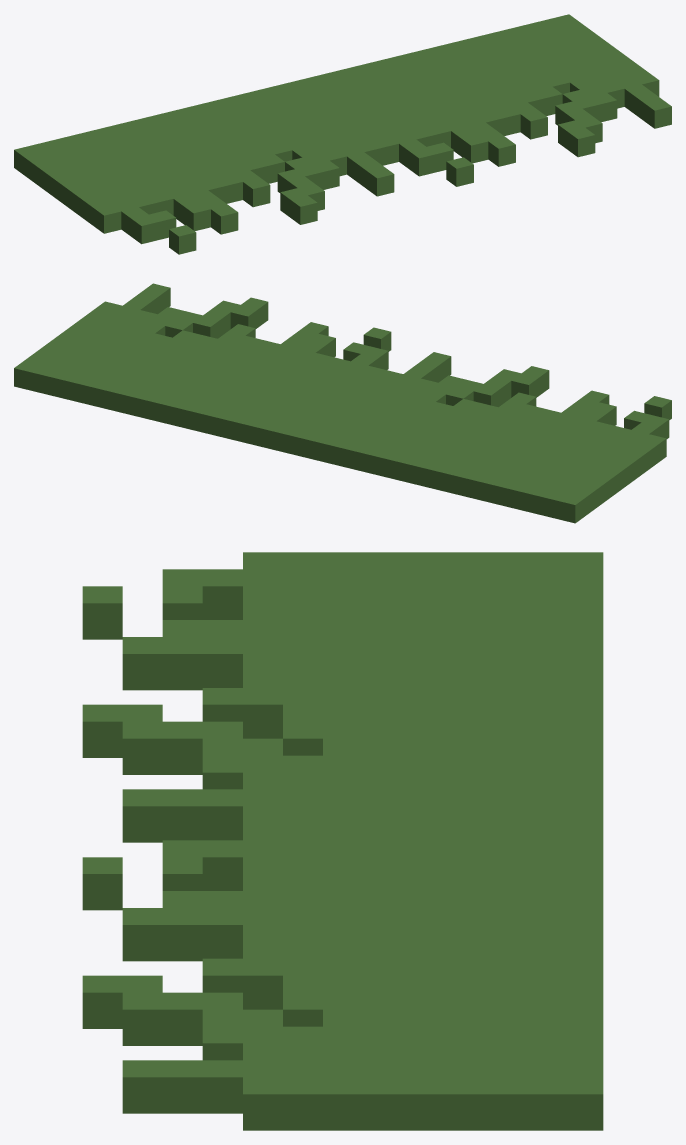
The model's file is nuke_weeds_3.glb.
The picture shows the model from 3 angles, top to bottom: view 1: azimuth 30°, elevation 25°; view 2: azimuth 150°, elevation 25°; view 3: azimuth 270°, elevation 25°; orthographic projection. The views are drawn at different scales.
Parts seen in each view (by area): view 1: nuke_weeds_3; view 2: nuke_weeds_3; view 3: nuke_weeds_3.
Boxes of the visible parts, x1,y1,x2,y2 form: nuke_weeds_3: [14, 14, 671, 254]; nuke_weeds_3: [14, 283, 671, 523]; nuke_weeds_3: [82, 552, 603, 1130].
Size of the model in its own units: 1.6 by 0.05 by 0.65.
Materials: 1 (1 with a texture image).
